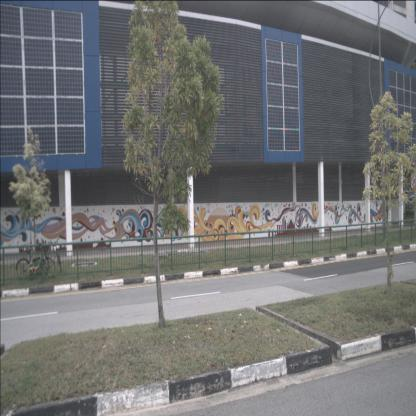vehicle-bicycle: (16, 243, 56, 280), (30, 235, 62, 276)
